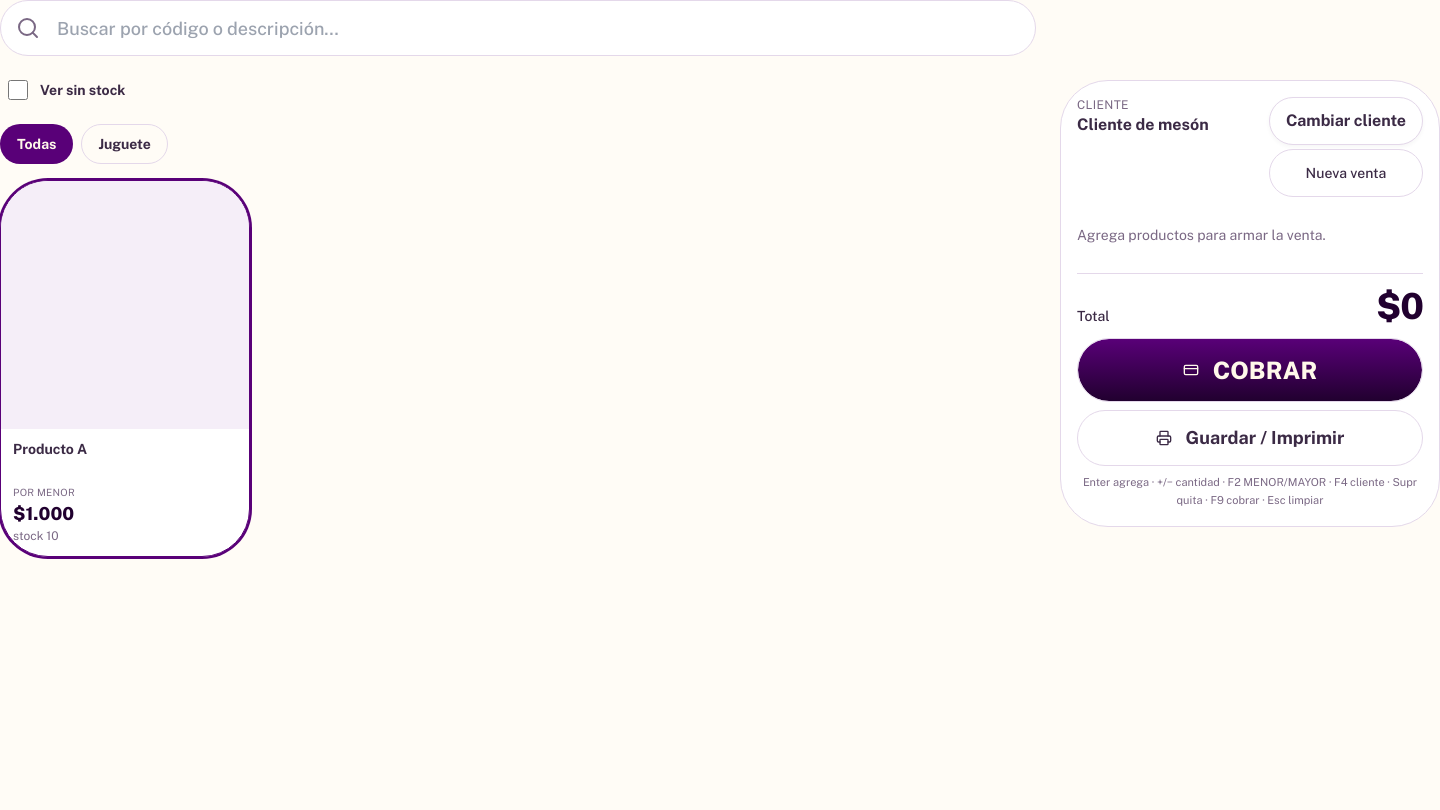
it: POS pos3 — cliente de la venta › F4 abre el selector y elegir un reciente cambia el cliente mostrado
Expected: the button with test id "pos-producto-GL1" is shown, [0,180,250,557]
Press F4
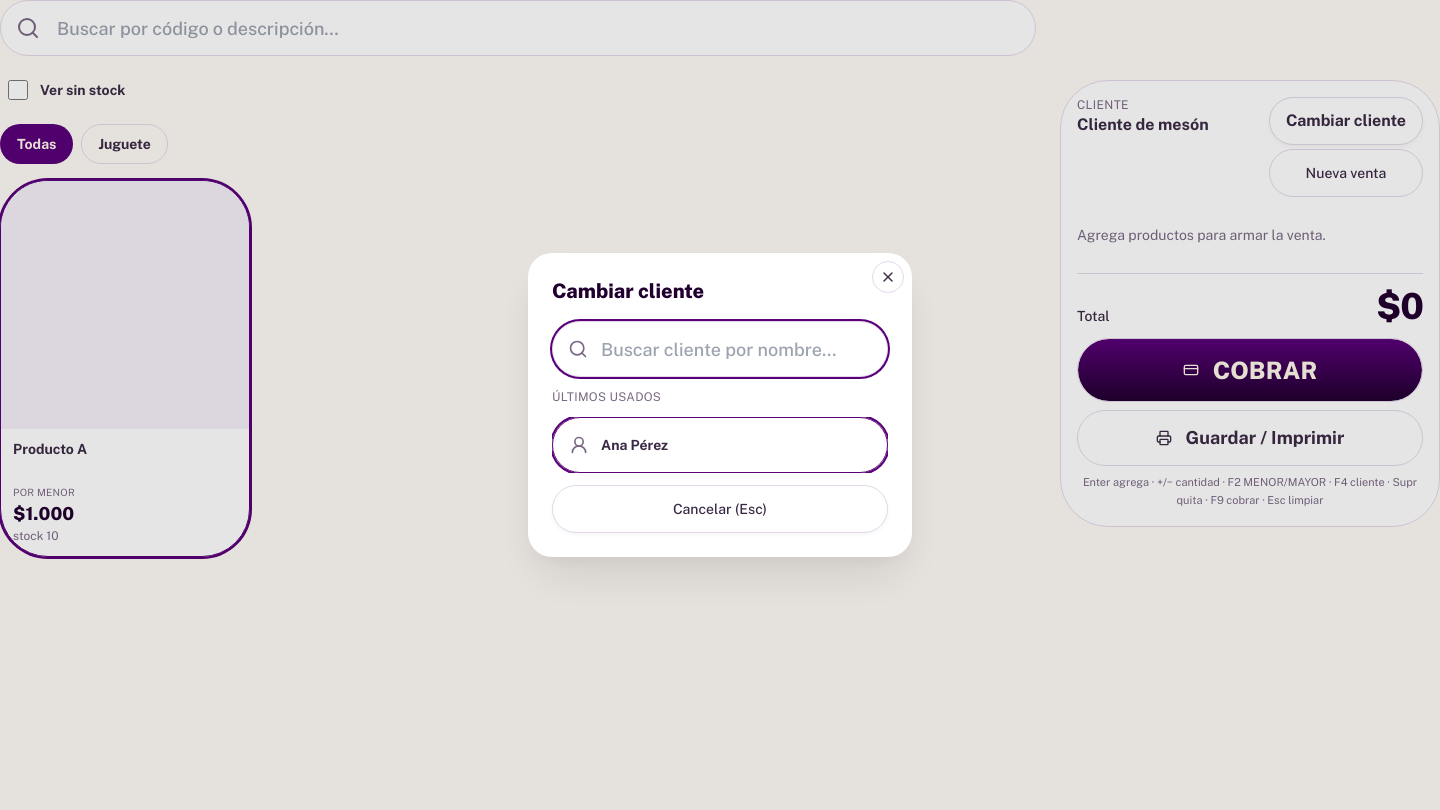
Click the button with test id "pos-cliente-opcion-c-ana" at (635, 445), box [552,417,888,473]
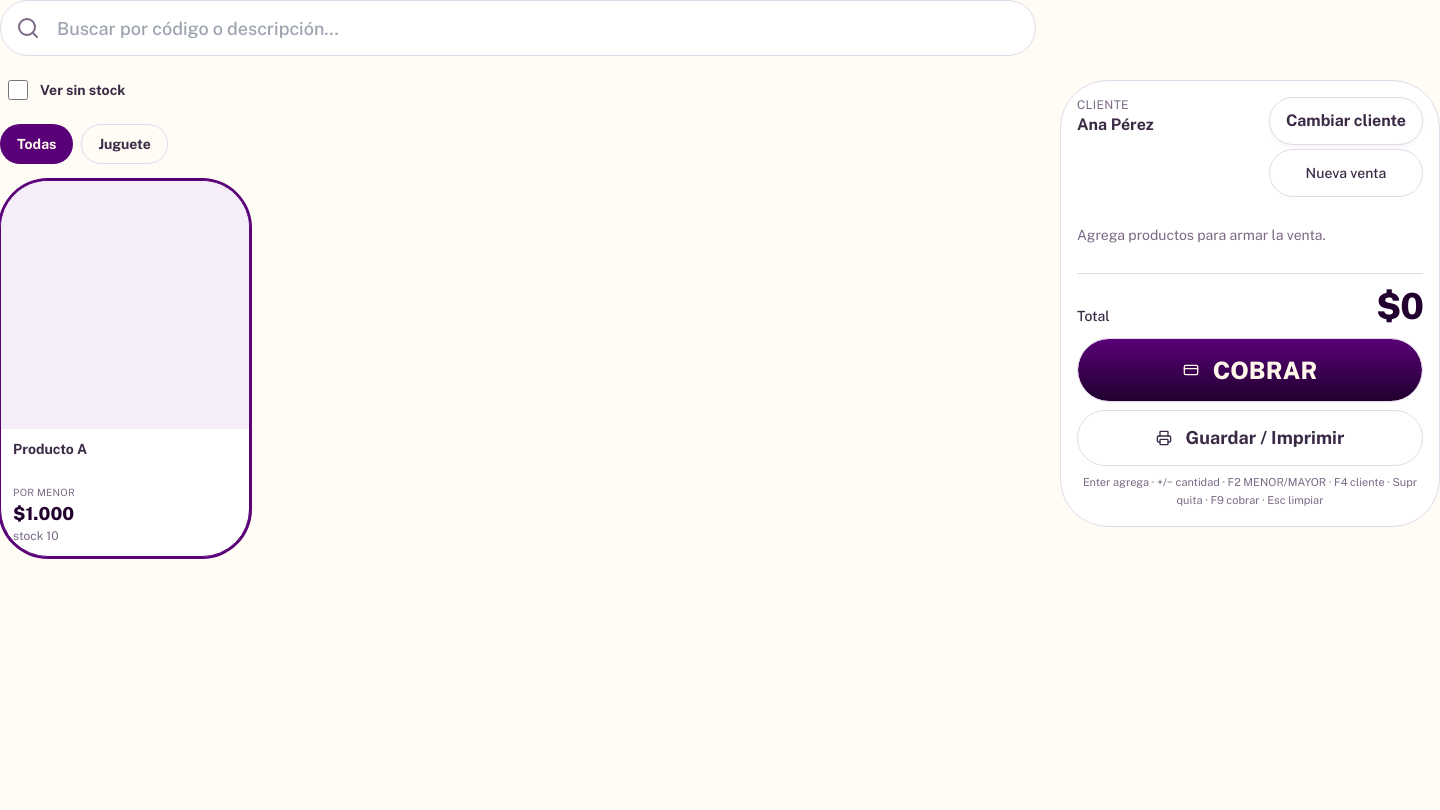
Result: the text "Ana Pérez" is shown at [1077,113,1154,137]
